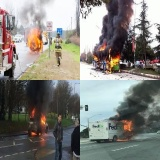fire: (26, 109, 47, 138), (26, 28, 45, 53), (113, 120, 133, 141), (107, 54, 120, 74), (99, 43, 105, 51), (93, 54, 98, 62)
